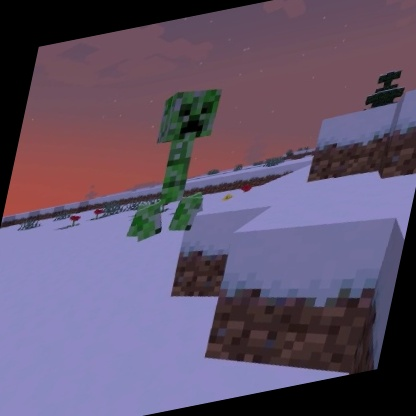creeper: (120, 79, 233, 248)
